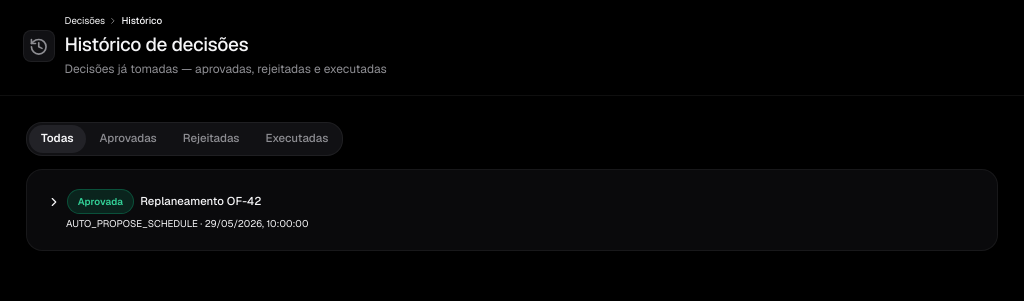
Scenario: HistoricoTab — DecisionDetail (FE-1 Q.130.D) › não rebenta se approvals estiver ausente
The width and height of the screenshot is (1024, 301).
Click the text "Replaneamento OF-42": (201, 202) [140,193,261,210]
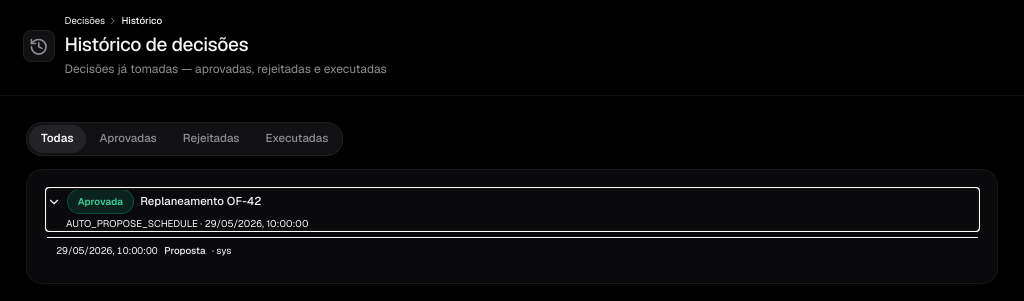
Expected: the text "Proposta" is shown, [164,244,206,257]
